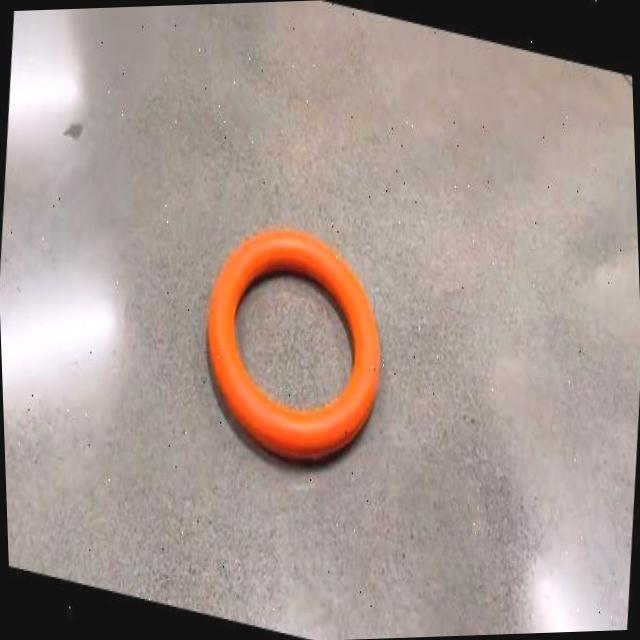note: (207, 227, 379, 459)
